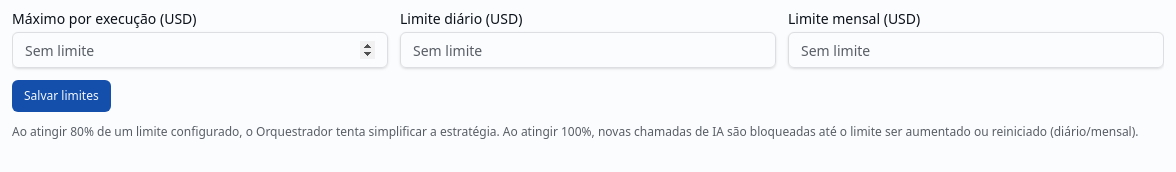
Test: BudgetSettings › saves edited limits, treating a blank field as no limit
This screenshot has width=1176, height=172.
Type "5" into the number field labelled "Máximo por execução (USD)" at (200, 50), box [12,32,388,68]
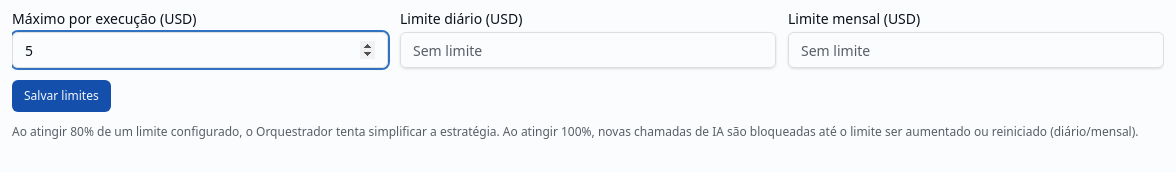
Click the button "Salvar limites" at (61, 96), box [12,80,111,112]
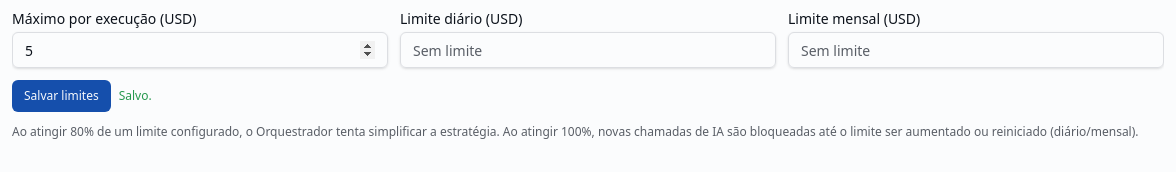
Result: the text "Salvo." is shown at [119,88,152,104]
